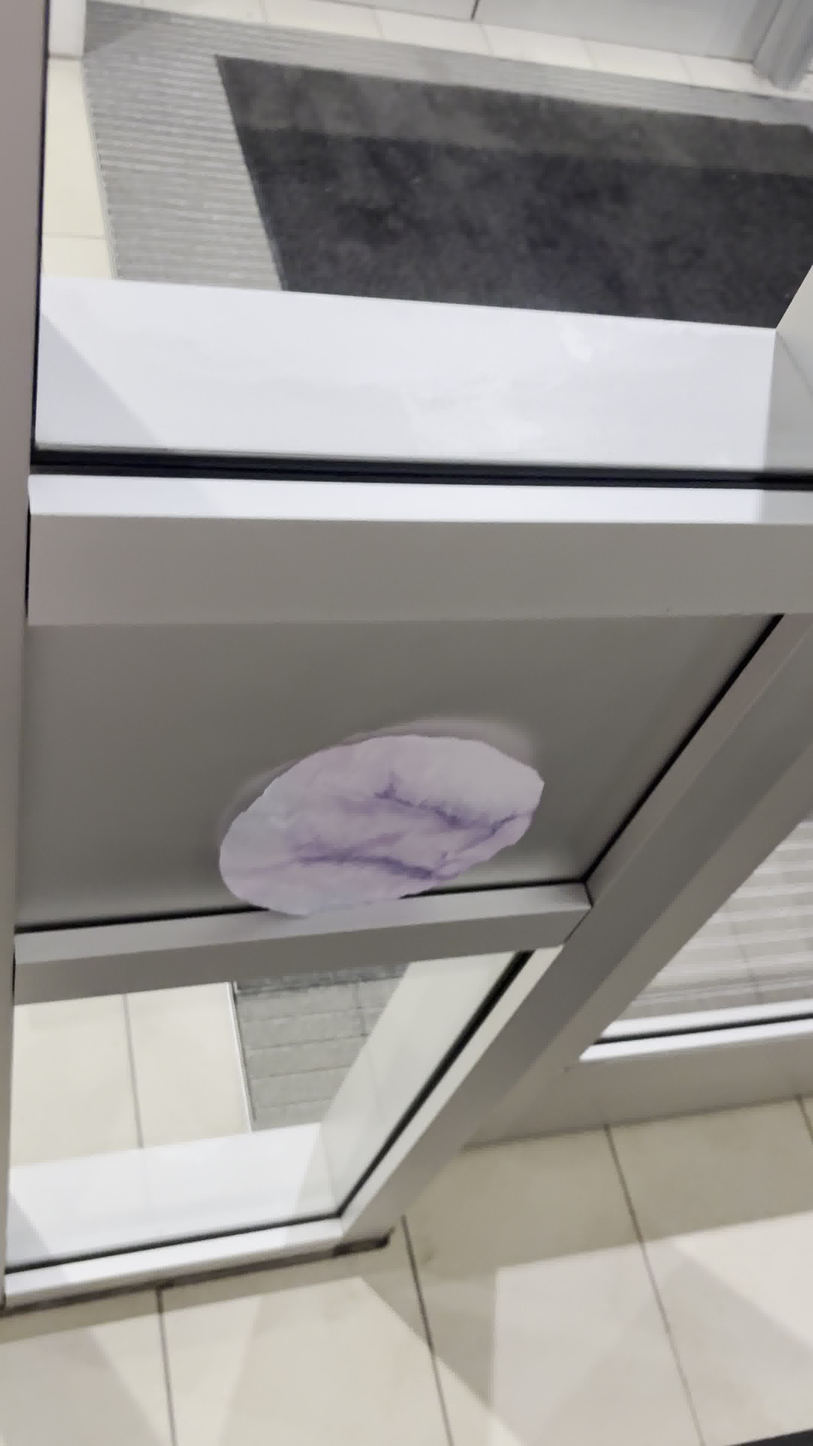Target: (209, 726, 550, 932)
